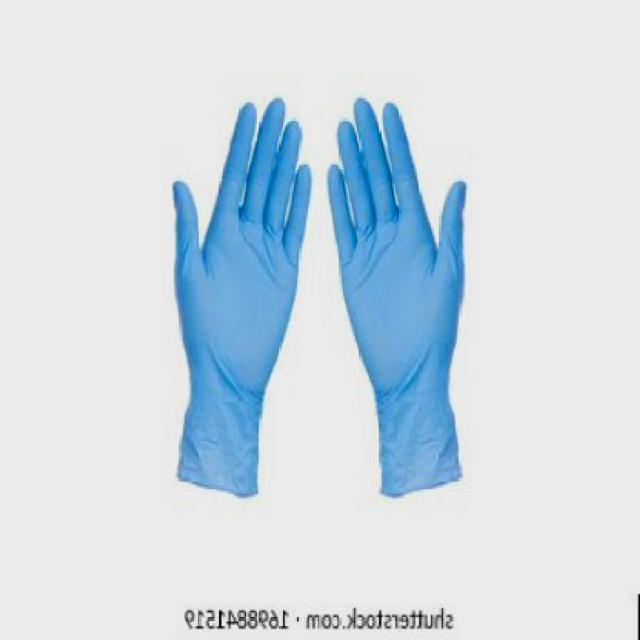glove: (162, 86, 322, 500), (323, 82, 474, 512)
